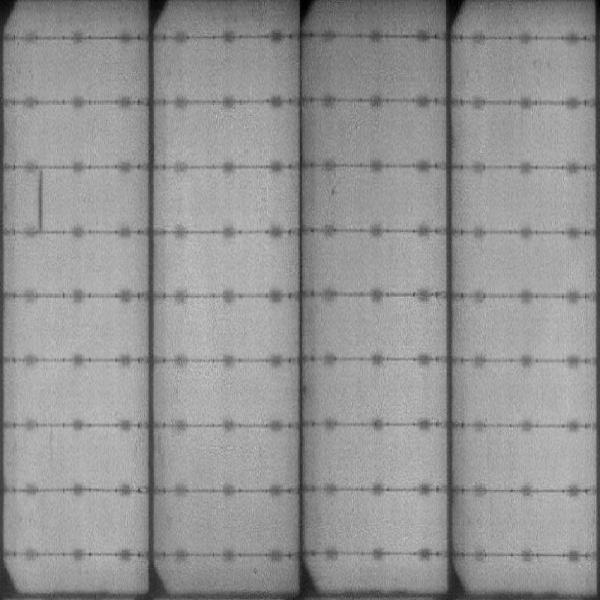scratch: (34, 167, 48, 234)
